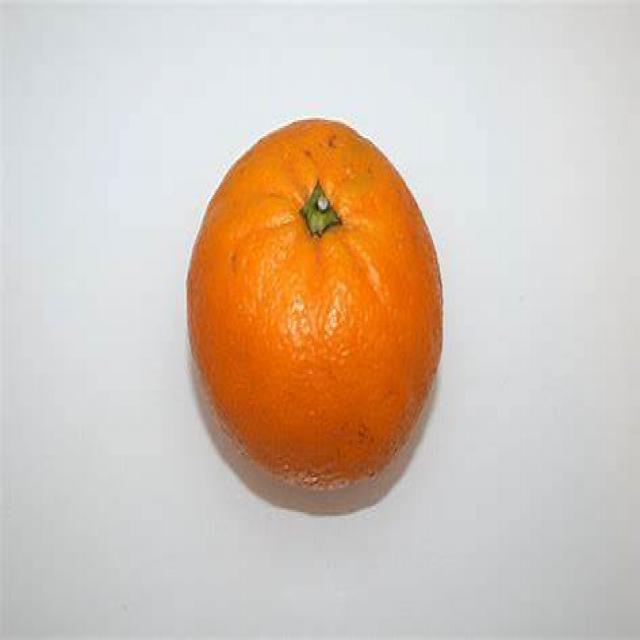Orange: (187, 114, 451, 498)
